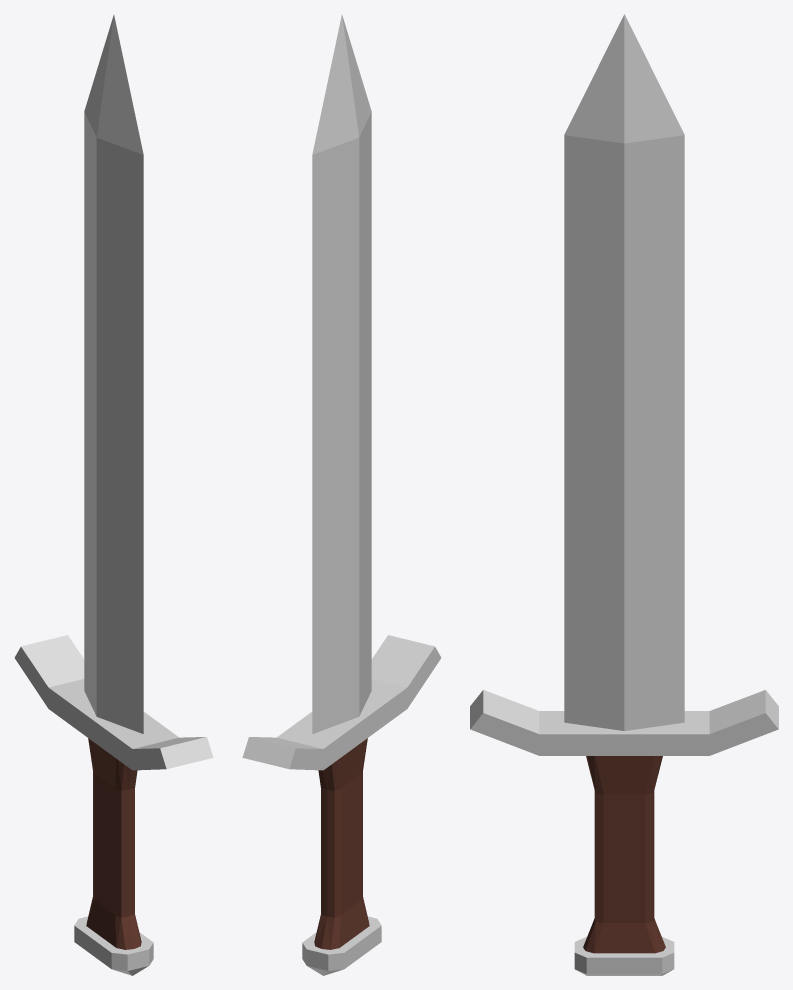
File: SM_Carrot_Sword.fbx
3 renders of one model, left to right at view 1: azimuth 30°, elevation 25°; view 2: azimuth 150°, elevation 25°; view 3: azimuth 270°, elevation 25°, orthographic.
Visible parts, largest first — view 1: Carrot_Sword; view 2: Carrot_Sword; view 3: Carrot_Sword.
Boxes of the visible parts, bbox=[...] form: Carrot_Sword: bbox=[14, 15, 213, 975]; Carrot_Sword: bbox=[242, 15, 441, 975]; Carrot_Sword: bbox=[470, 14, 778, 975].
Bounding box in the file's own units: 150 × 26.72 × 516.
